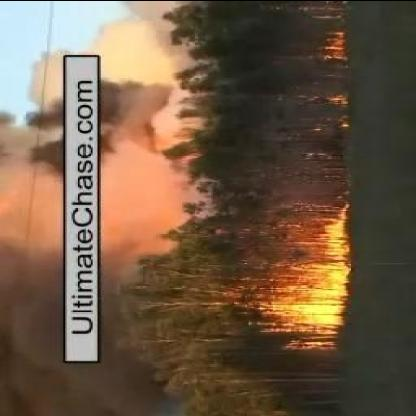-: (5, 113, 55, 413), (102, 72, 172, 254)
foggia-v2-map80-epoch100 - v1 4323: (268, 212, 346, 350), (326, 30, 346, 58)
